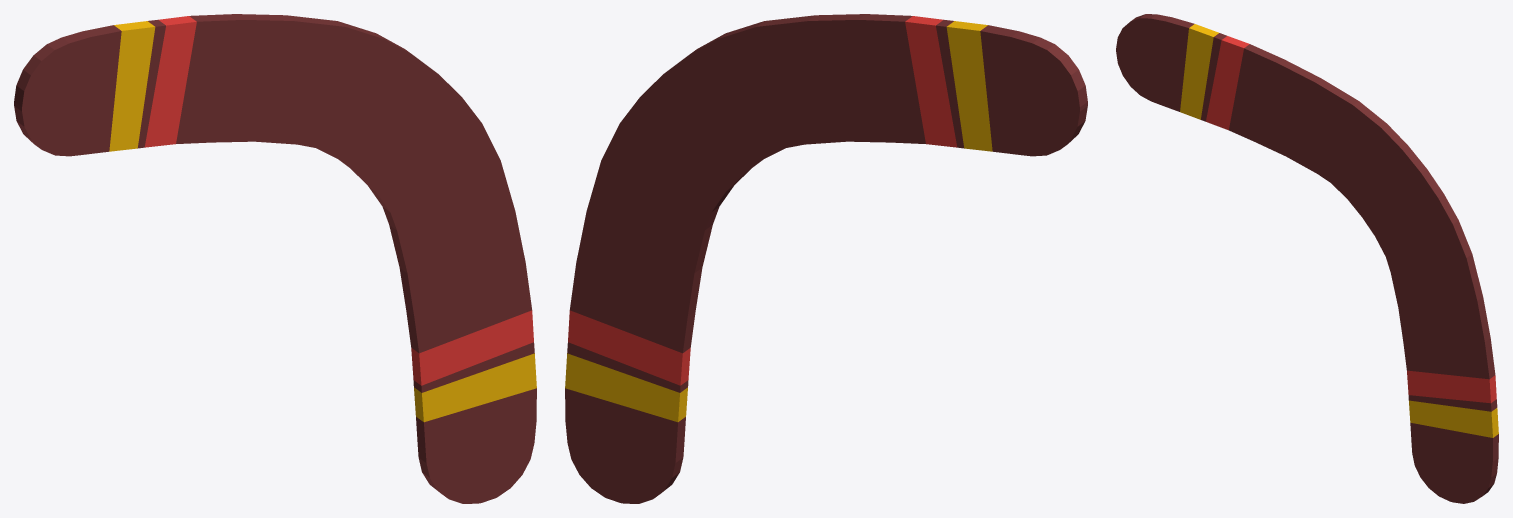
File: boomerang.gltf
The picture shows the model from 3 angles, left to right: view 1: azimuth 30°, elevation 25°; view 2: azimuth 150°, elevation 25°; view 3: azimuth 330°, elevation 25°; orthographic projection. The views are drawn at different scales.
Parts seen in each view (by area): view 1: Cube.997; view 2: Cube.997; view 3: Cube.997.
Part boxes in pixels (x1=…): Cube.997: x1=14, y1=14, x2=536, y2=503; Cube.997: x1=565, y1=14, x2=1087, y2=503; Cube.997: x1=1116, y1=14, x2=1498, y2=503.
Bounding box in the file's own units: 2.09 × 2.18 × 0.0565.
Materials: 1 (1 with a texture image).
